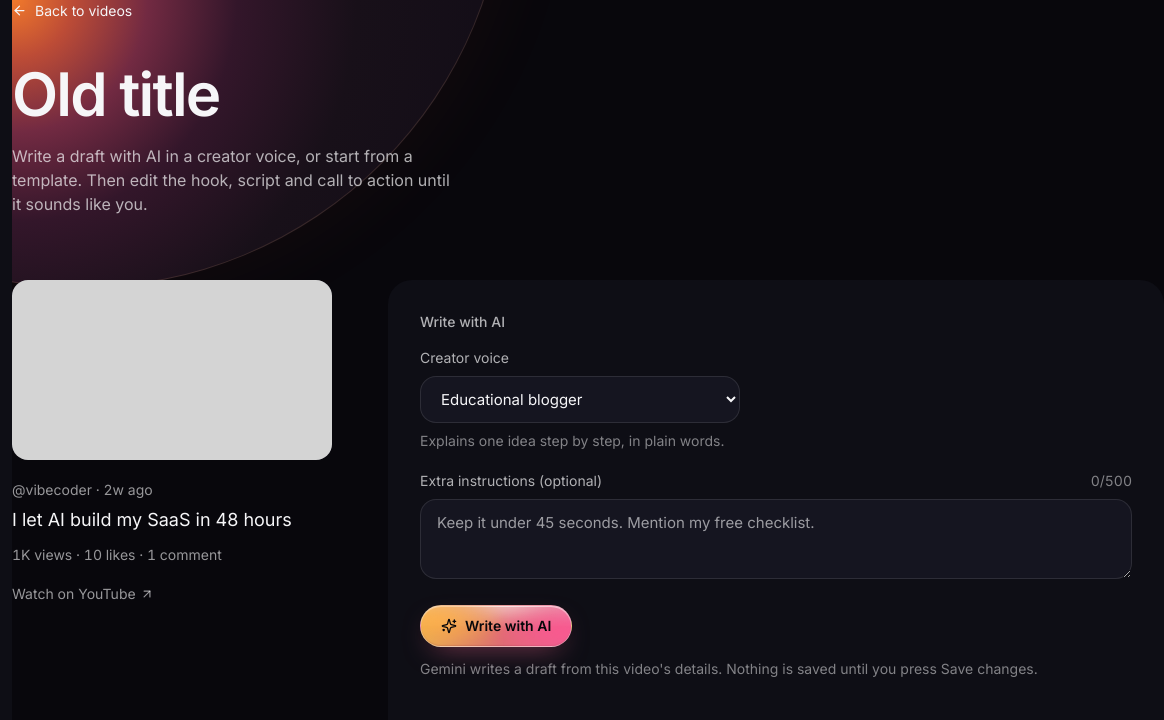
Scenario: Write with AI: writes left today › with 5 left reads the right wording
Expected: the heading "Write with AI" is shown, x1=420 y1=313 x2=505 y2=330
Click the button "Write with AI". click: (496, 626)
box: x1=420 y1=605 x2=572 y2=647
(page scrolled)
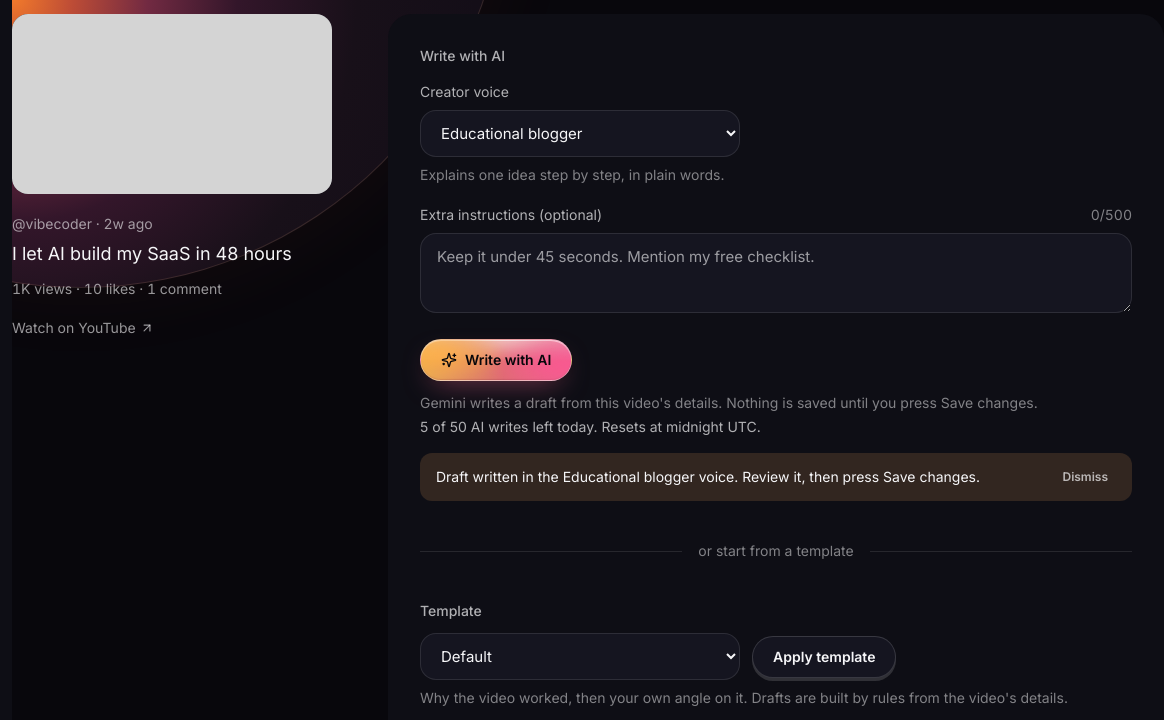
Expected: the button "Write with AI" is enabled, x1=420 y1=339 x2=572 y2=381
Expected: the text with id "ai-writes-left" reads "5 of 50 AI writes left today. Resets at midnight UTC.", x1=420 y1=418 x2=761 y2=435
